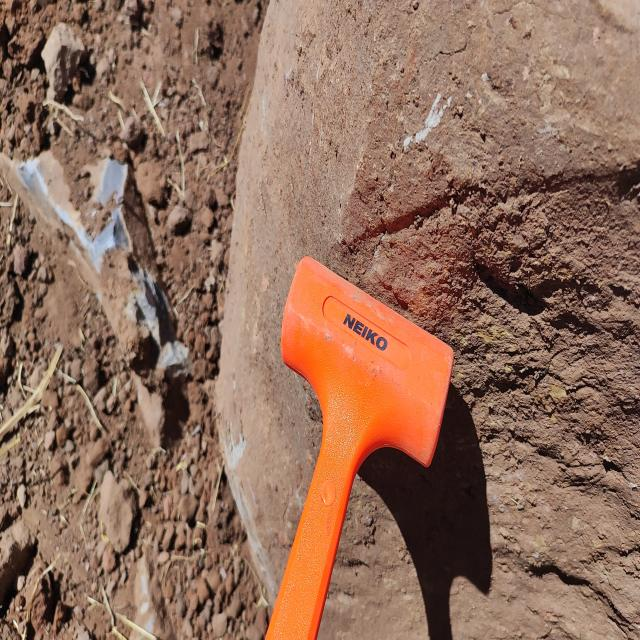Orange_hammer: (264, 254, 454, 638)
